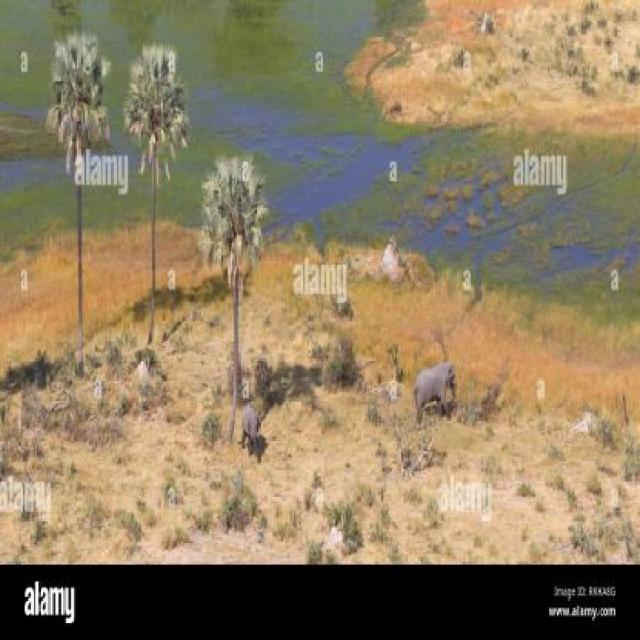elephant: (410, 358, 458, 427), (239, 401, 266, 456)
